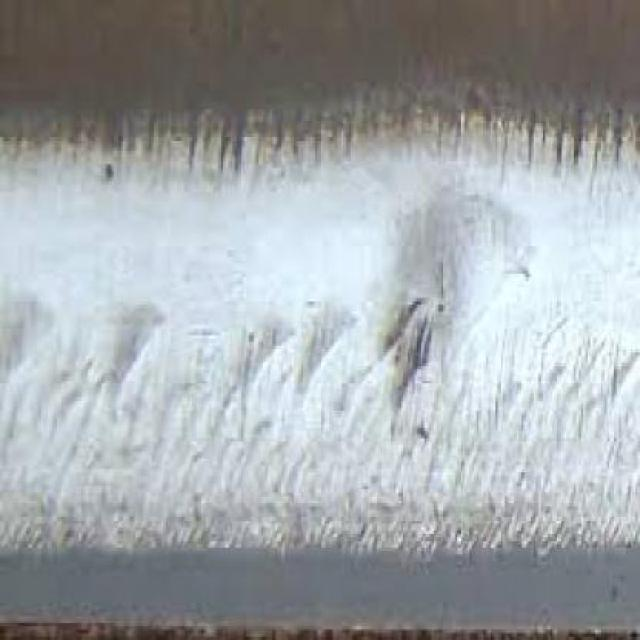defective: (0, 118, 640, 632)
